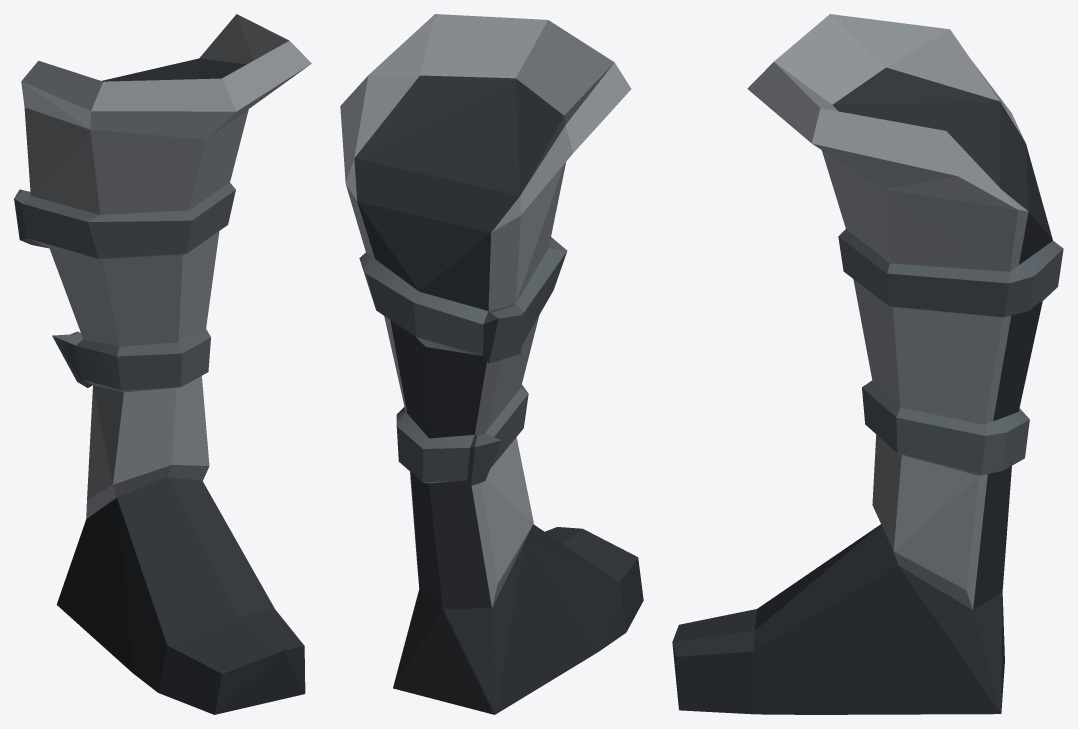
Rendered from Chr_LegRight_Female_08_Static.fbx.
3 views of the same model, side by side, from view 1: azimuth 30°, elevation 25°; view 2: azimuth 150°, elevation 25°; view 3: azimuth 270°, elevation 25° (orthographic). The views are drawn at different scales.
Parts seen in each view (by area): view 1: Chr_LegRight_Female_08_Static; view 2: Chr_LegRight_Female_08_Static; view 3: Chr_LegRight_Female_08_Static.
Part boxes in pixels (<box>): Chr_LegRight_Female_08_Static: <box>14,14,311,714</box>; Chr_LegRight_Female_08_Static: <box>340,14,643,714</box>; Chr_LegRight_Female_08_Static: <box>672,14,1063,714</box>.
Bounding box in the file's own units: 0.1764 × 0.4324 × 0.244.
